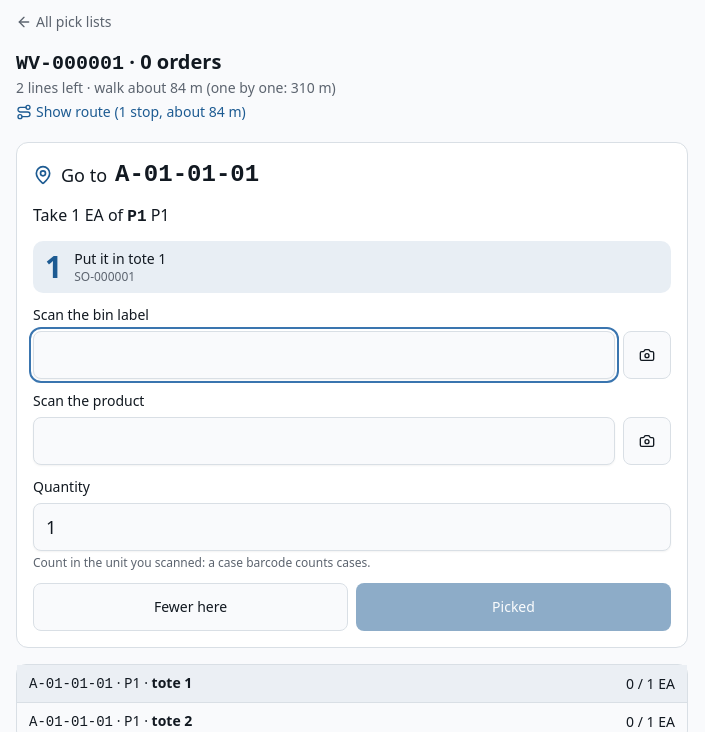
Test case: walks a wave: one bin, two totes, each confirmed on its own list
The image size is (705, 732).
Expected: the text "Put it in tote 1" is shown, [74, 249, 166, 268]
Expected: the text "2 lines left · walk about 84 m (one by one: 310 m)" is shown, [16, 78, 336, 97]
Type "A-01-01-01" into the field labelled "Scan the bin label" at (324, 355), box [33, 331, 615, 379]
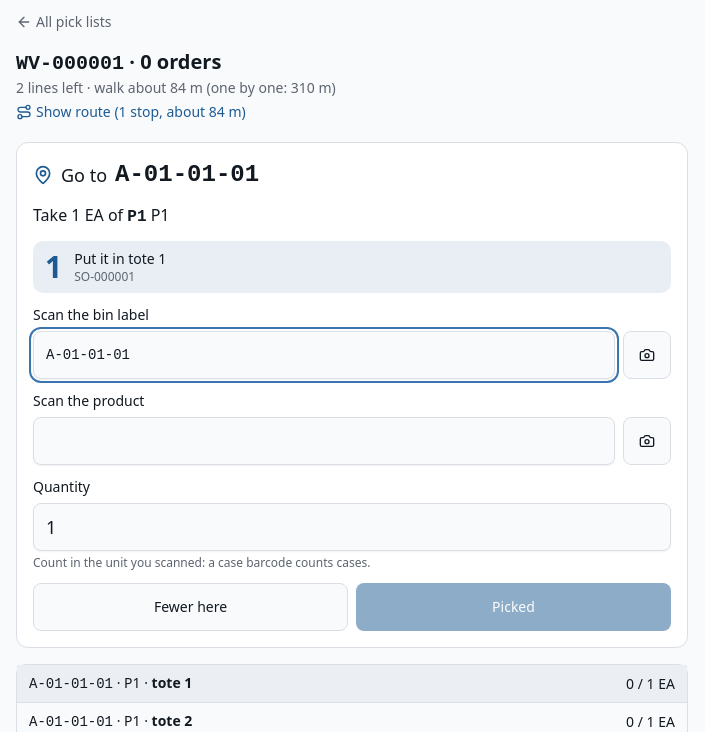
Type "P1" into the field labelled "Scan the product" at (324, 441), box [33, 417, 615, 465]
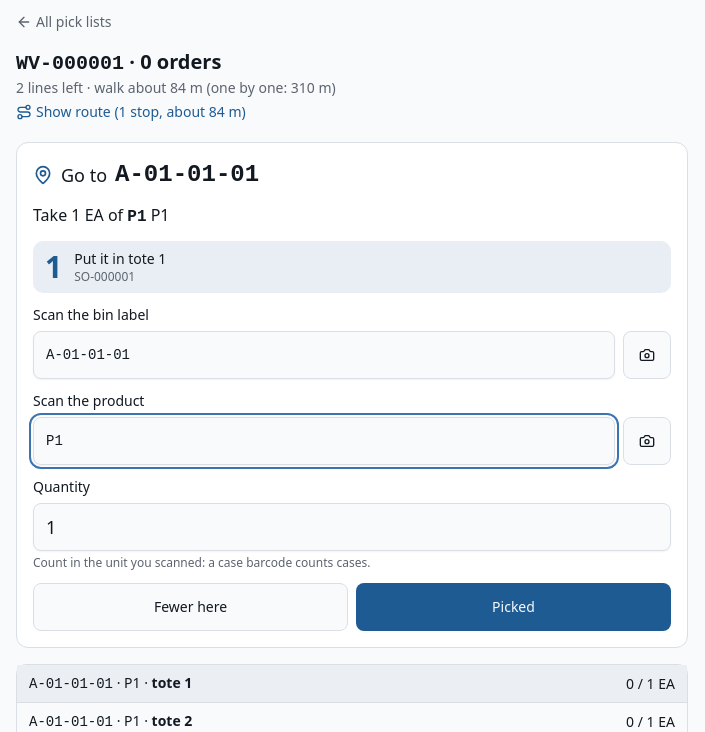
Click the button "Picked" at (514, 607), box [356, 583, 671, 631]
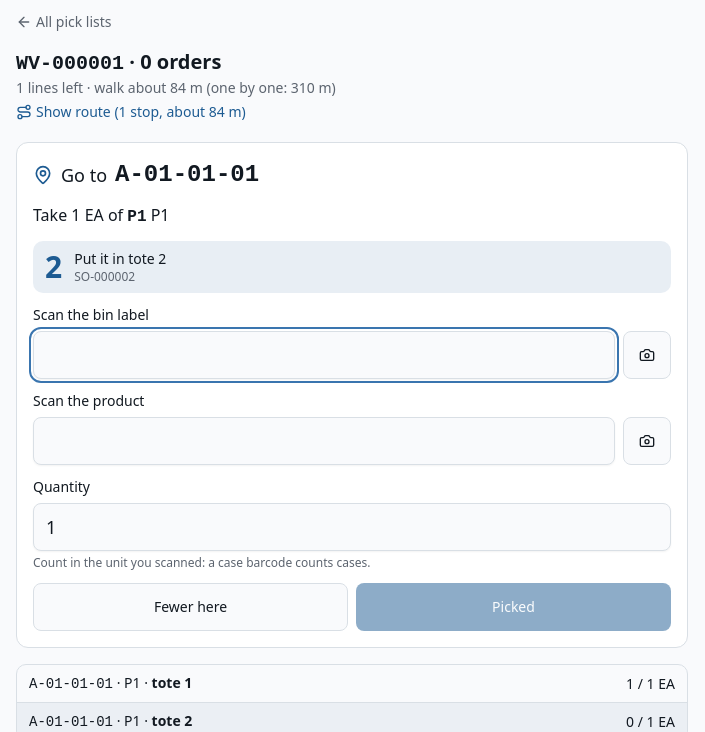
Expected: the text "Put it in tote 2" is shown, [74, 249, 166, 268]
